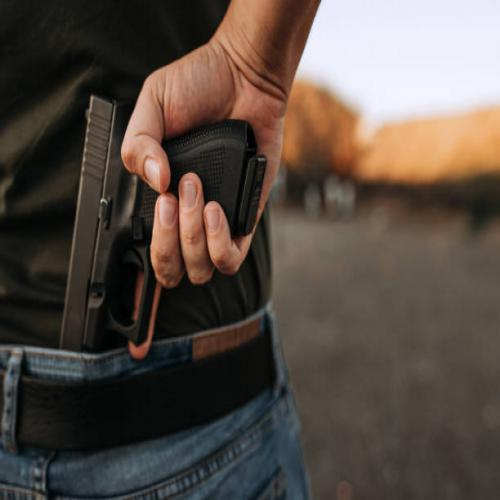gun: (57, 91, 272, 355)
